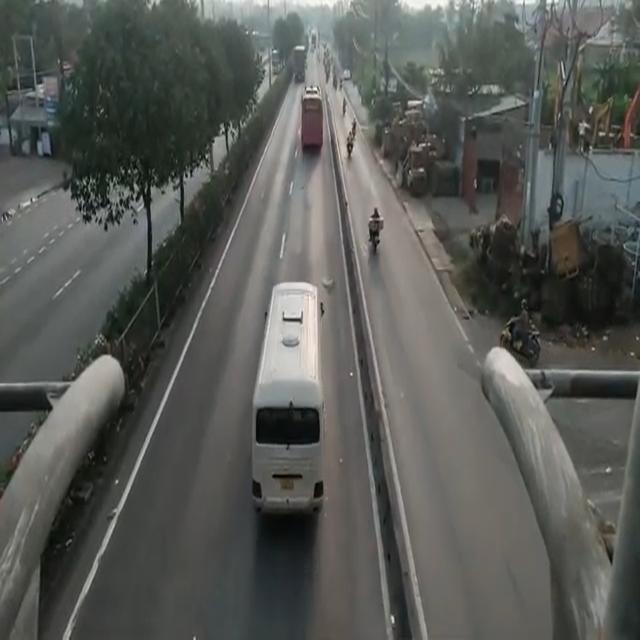bus: (258, 279, 325, 512), (300, 86, 326, 160)
motor: (366, 204, 385, 253)
